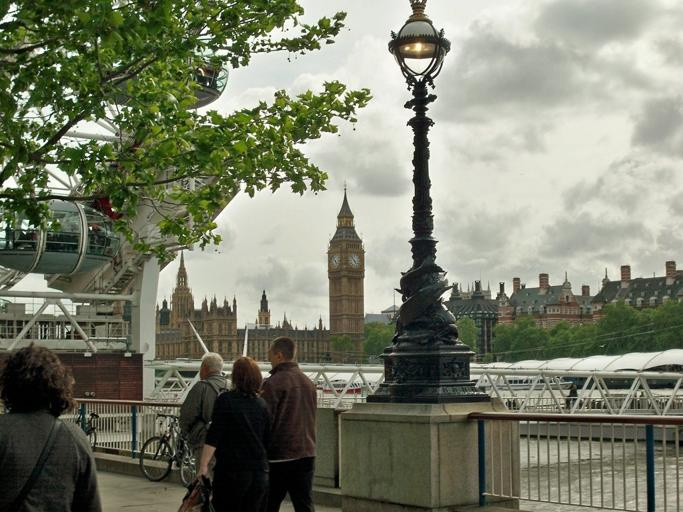non-vehicle: (140, 413, 214, 485), (72, 404, 99, 450)
